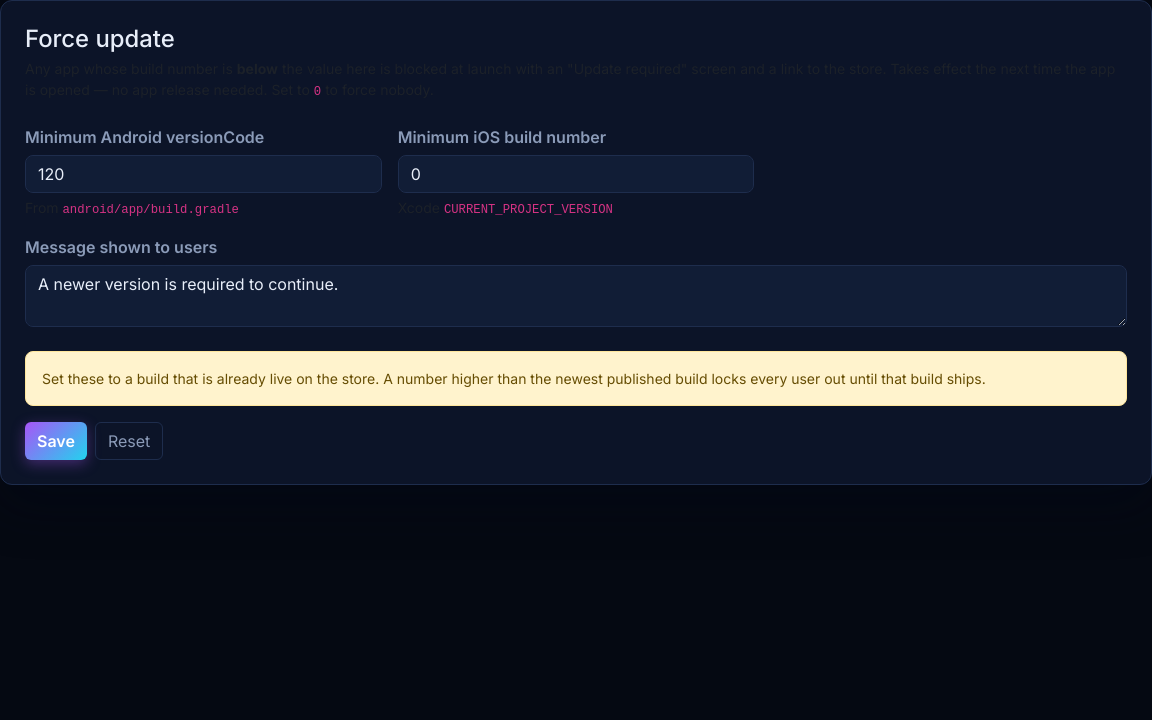
Test case: AppUpdatePage › keeps what was typed when saving fails
Step 1. Replace the text in the number field labelled "Minimum Android versionCode" with "121" → (203,174), box [25,155,382,193]
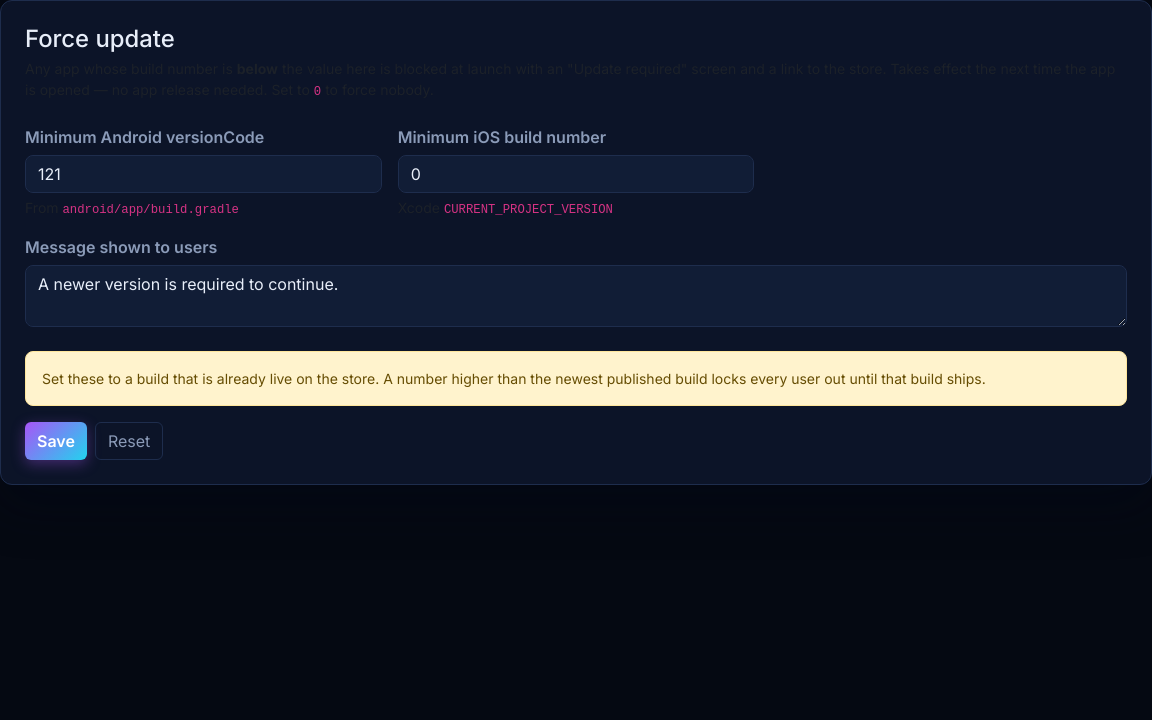
Step 2. Click the button "Save" → (56,441), box [25,422,87,460]
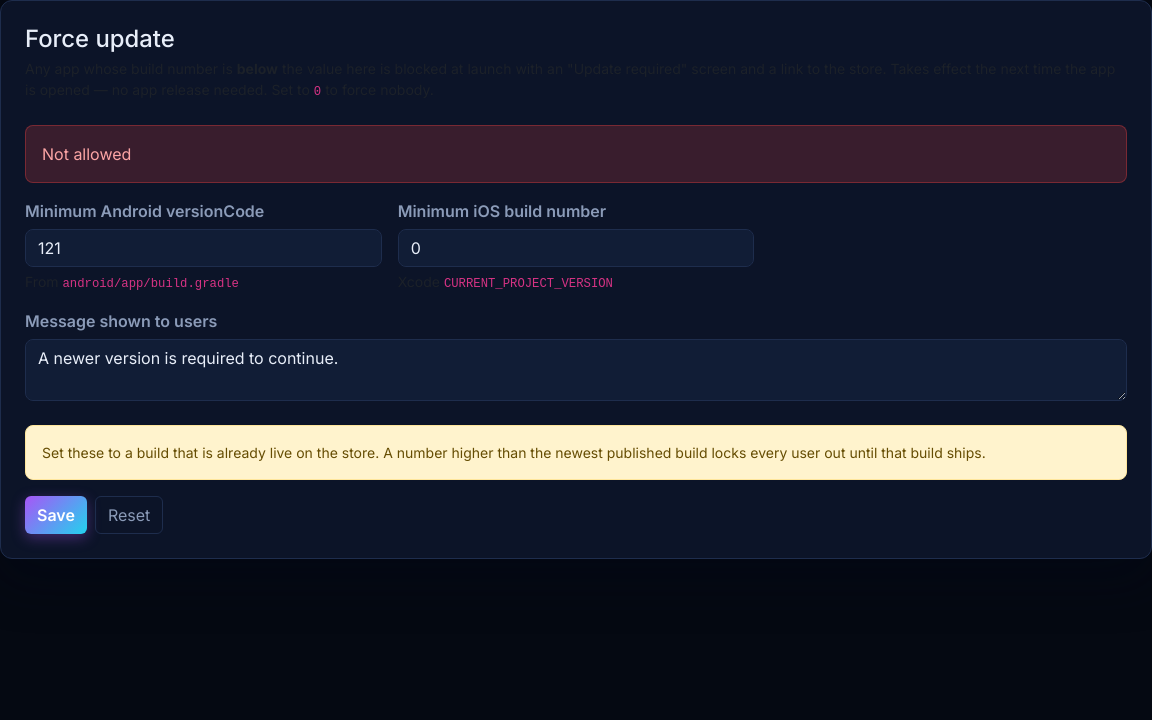
Now the text "Not allowed" is shown, box [25,125,1127,183]
